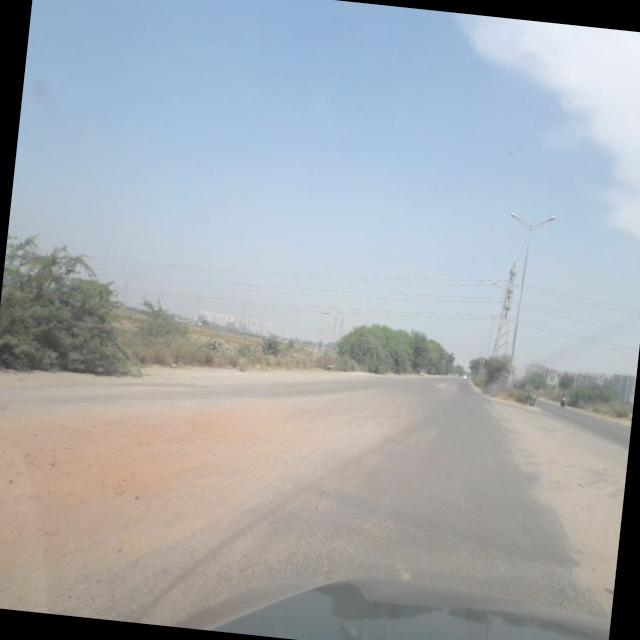pothole: (0, 348, 298, 608)
